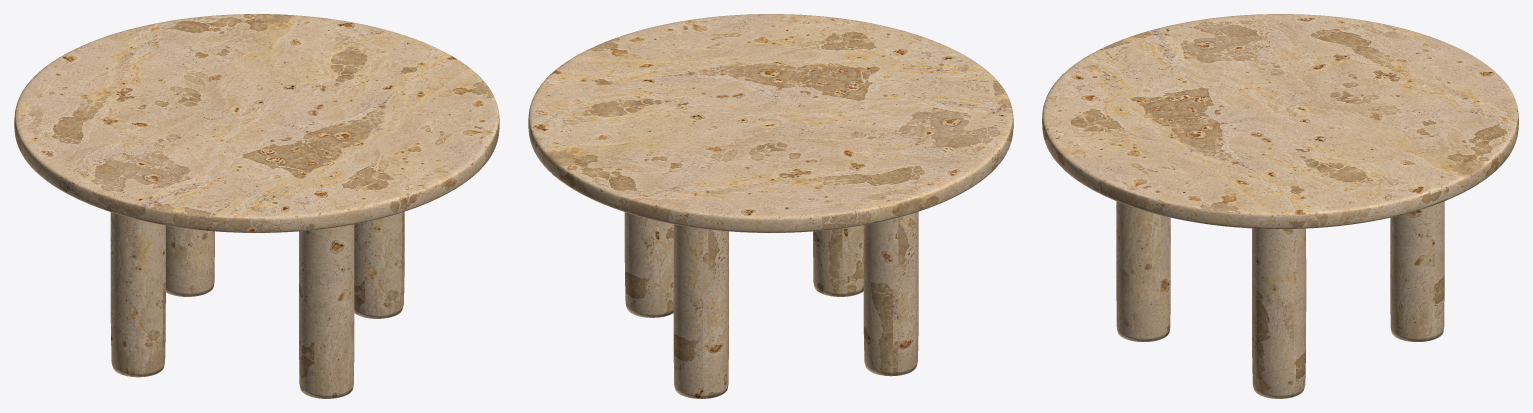
The model's file is livingroom table.glb.
3 renders of one model, left to right at view 1: azimuth 30°, elevation 25°; view 2: azimuth 150°, elevation 25°; view 3: azimuth 270°, elevation 25°, orthographic.
Visible parts, largest first — view 1: Living room table; view 2: Living room table; view 3: Living room table.
Part boxes in pixels (bbox=[...]): Living room table: bbox=[14, 14, 499, 398]; Living room table: bbox=[528, 14, 1013, 398]; Living room table: bbox=[1042, 14, 1518, 398].
Size of the model in its own units: 0.6952 by 0.35 by 0.6952.
1 material, 1 textured.
